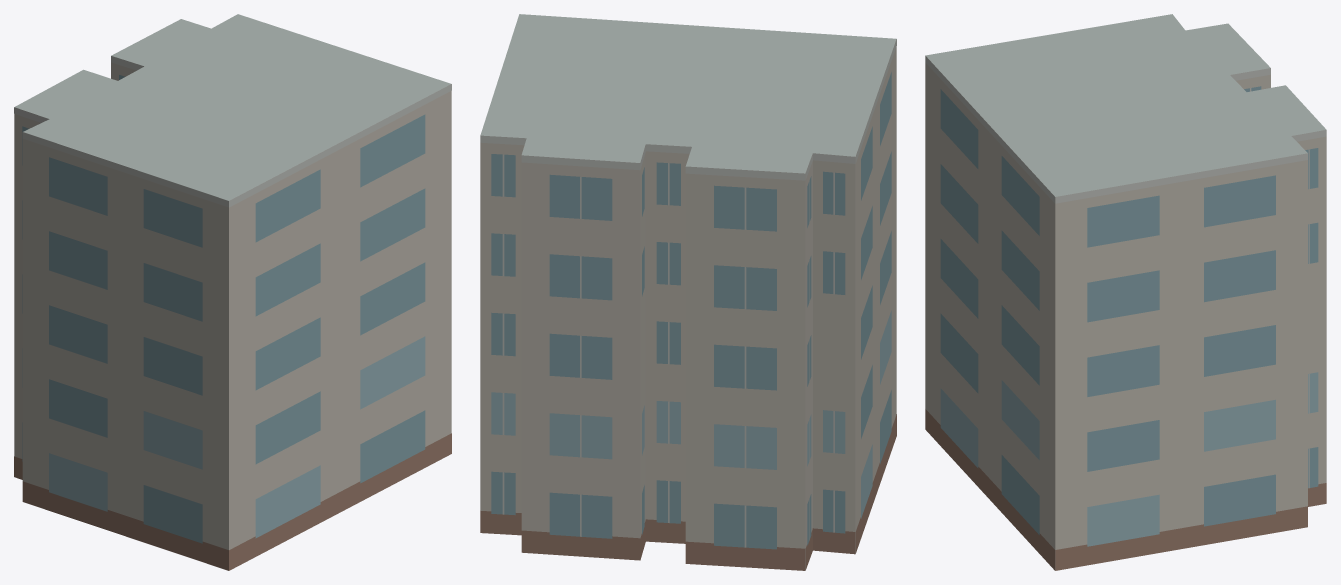
The model's file is survey-upis-32857798.glb.
3 views of the same model, side by side, from view 1: azimuth 30°, elevation 25°; view 2: azimuth 150°, elevation 25°; view 3: azimuth 270°, elevation 25° (orthographic). The views are drawn at different scales.
Parts seen in each view (by area): view 1: survey-upis-32857798.tmp; view 2: survey-upis-32857798.tmp; view 3: survey-upis-32857798.tmp.
Boxes of the visible parts, x1,y1,x2,y2 form: survey-upis-32857798.tmp: [14, 14, 451, 570]; survey-upis-32857798.tmp: [480, 14, 896, 570]; survey-upis-32857798.tmp: [925, 14, 1326, 570].
Bounding box in the file's own units: 14.23 × 13.55 × 13.19.
